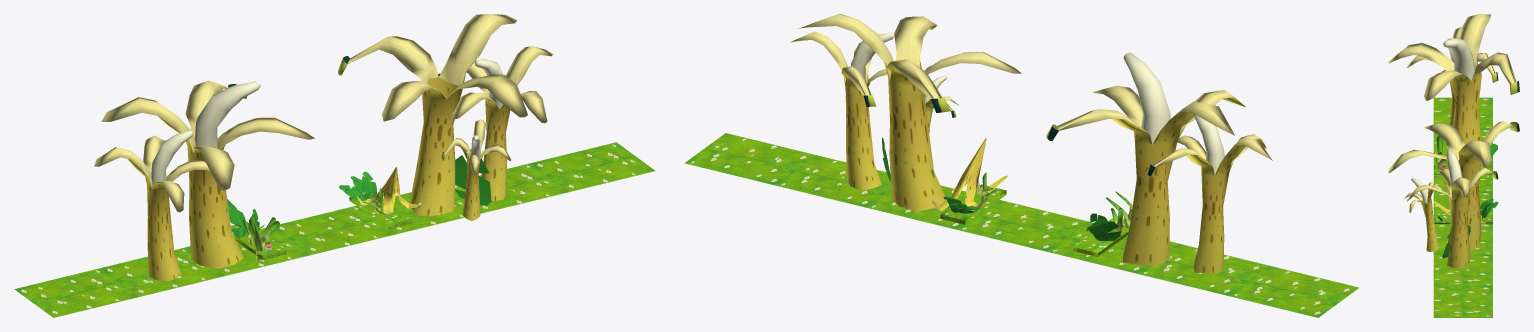
The model's file is Block_Bord_01.fbx.
3 views of the same model, side by side, from view 1: azimuth 30°, elevation 25°; view 2: azimuth 150°, elevation 25°; view 3: azimuth 270°, elevation 25° (orthographic). The views are drawn at different scales.
Parts seen in each view (by area): view 1: Block_bord_01; view 2: Block_bord_01; view 3: Block_bord_01.
Boxes of the visible parts, <box> form: Block_bord_01: <box>14,14,655,317</box>; Block_bord_01: <box>685,14,1358,317</box>; Block_bord_01: <box>1388,14,1519,317</box>.
Bounding box in the file's own units: 53 × 15.65 × 13.39.
